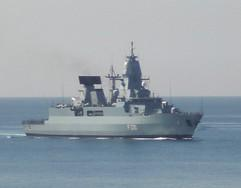warship: (20, 41, 205, 138)
